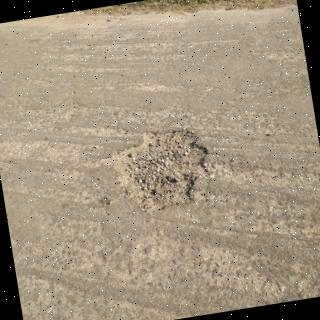pothole: (100, 130, 212, 210)
